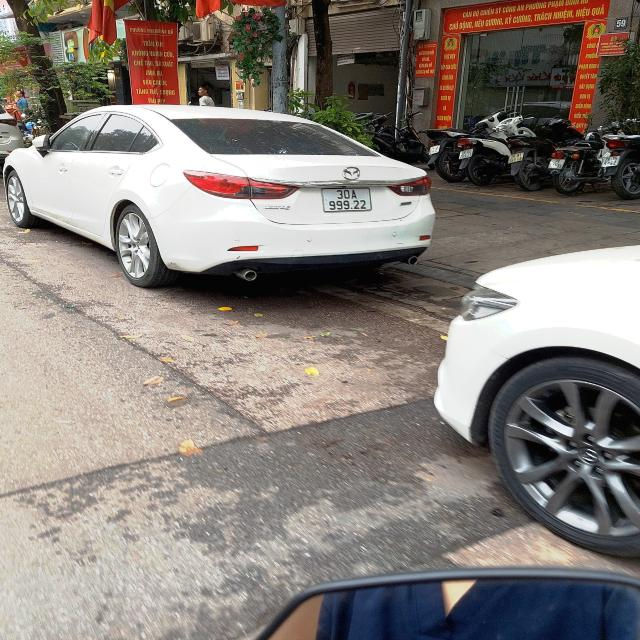license_plate: (322, 189, 373, 214), (602, 156, 622, 168), (548, 159, 568, 170), (508, 153, 526, 165), (459, 149, 475, 161)
